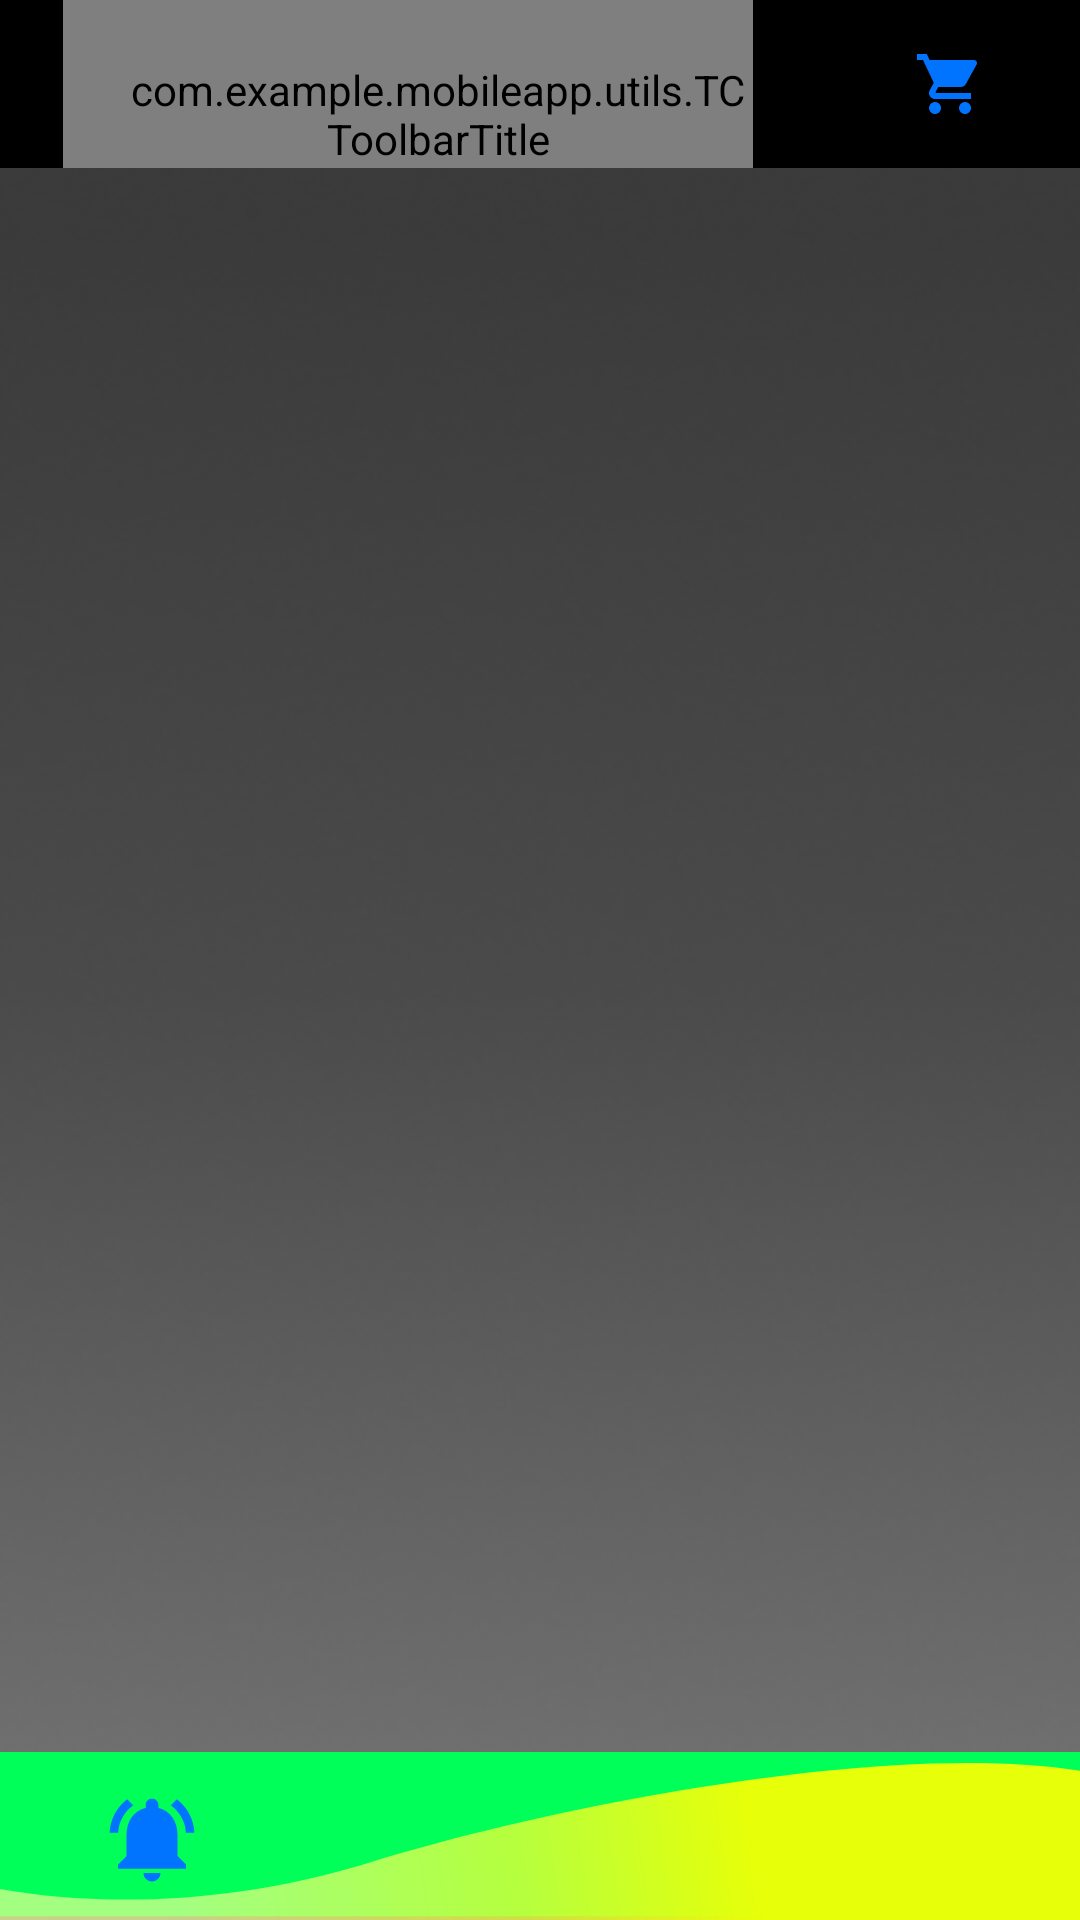

Where to tap for icons on this 1080x1920 app screen, as (x,y):
notifications: (152,1840)
shopping cart: (947,84)
